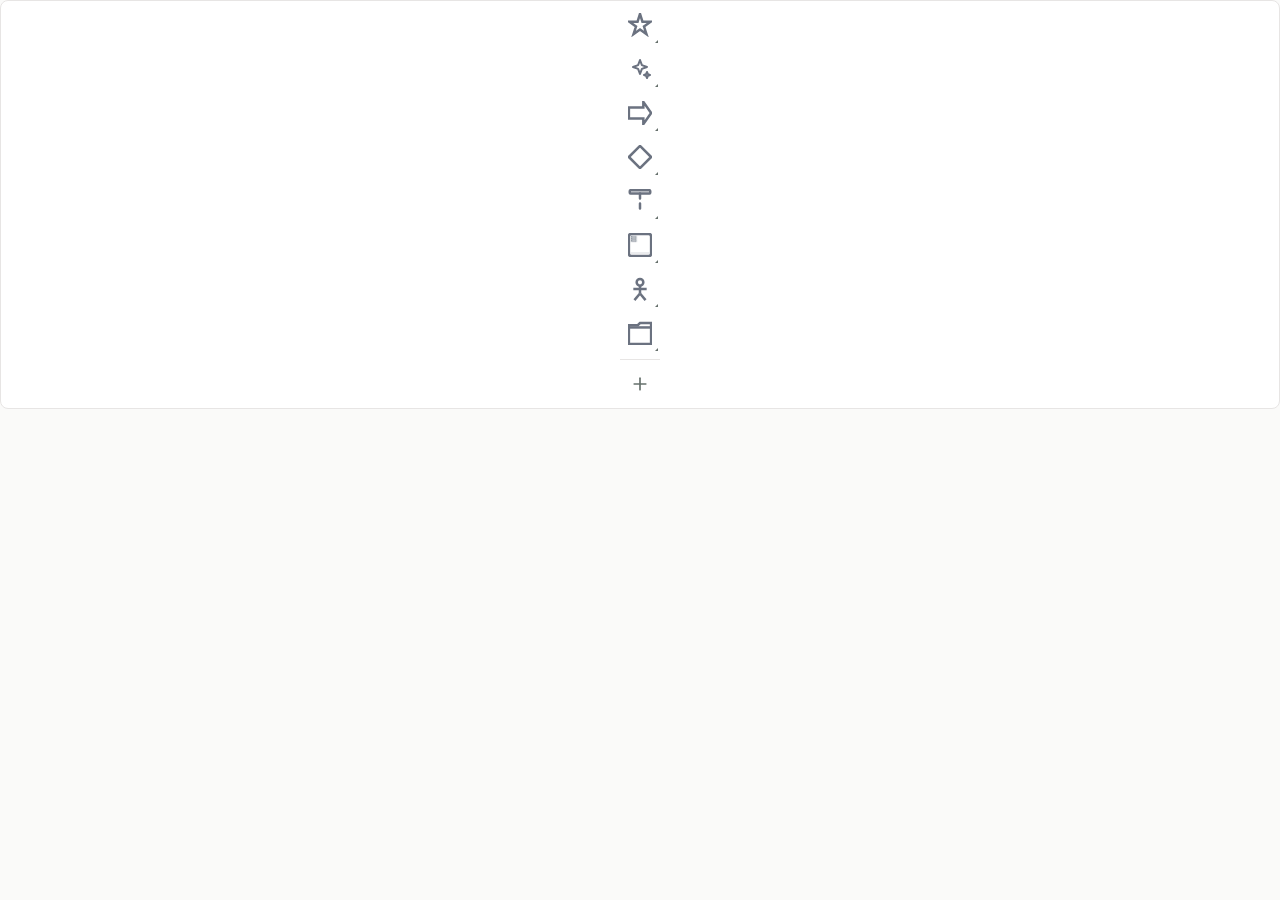
Scenario: CollapsedElementsRail accessibility › adds a semantic data flow element and promotes it to the group tool
The width and height of the screenshot is (1280, 900).
Step 1. Click the button named "Choose element groups" → click(640, 384), box [620,364,660,404]
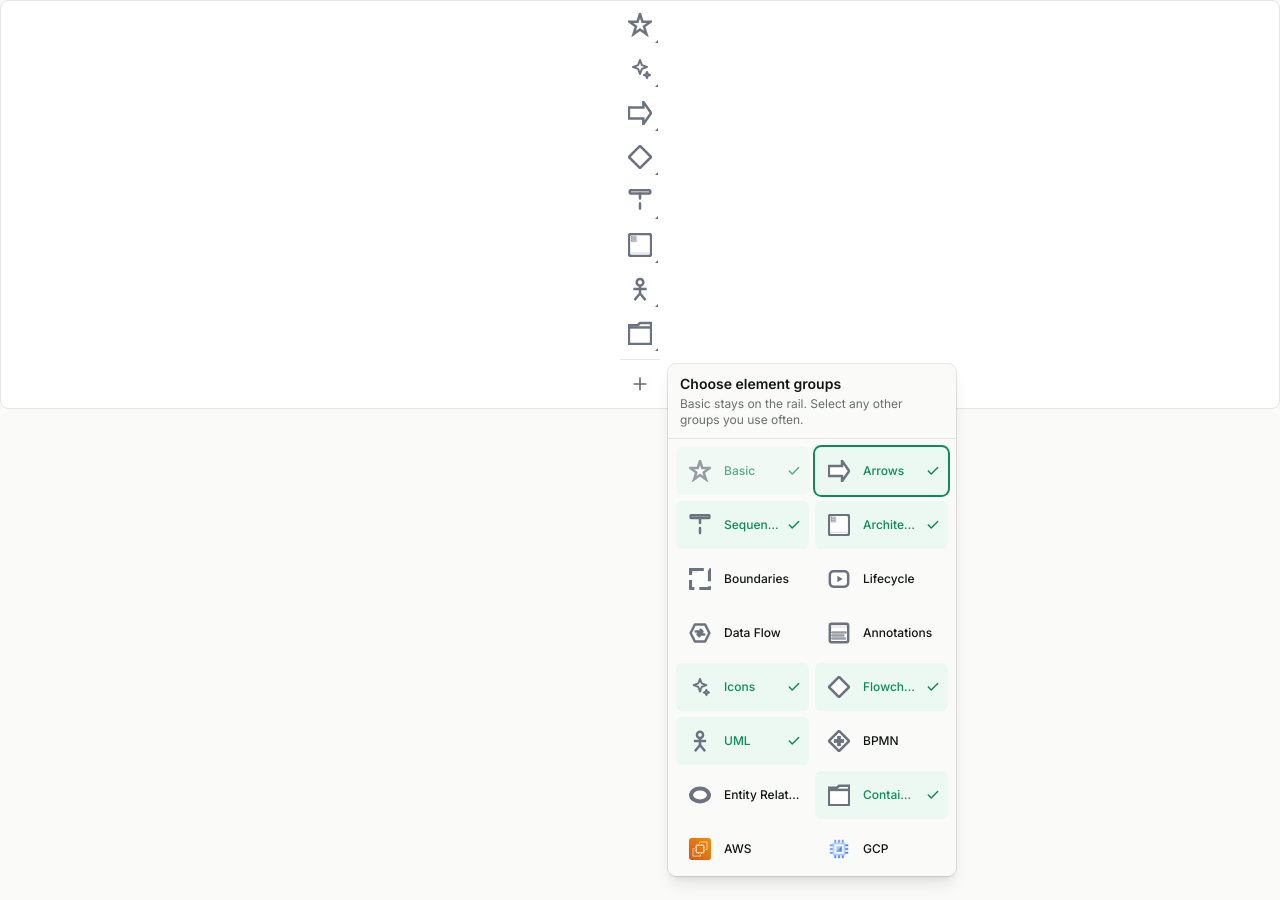
Step 2. Click the button with aria-label "Data Flow group, hidden" → click(742, 633), box [676,609,809,657]
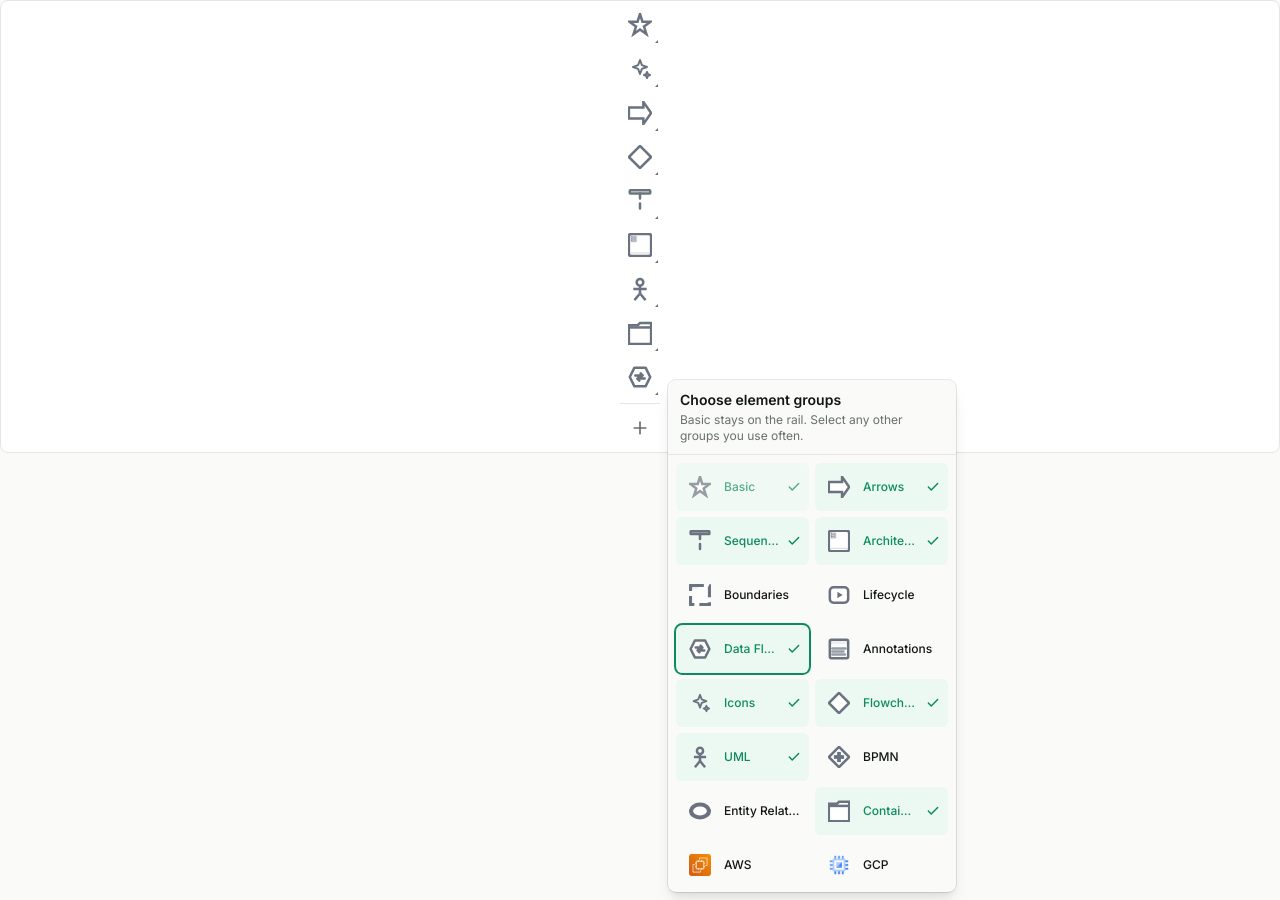
Step 3. Press Escape
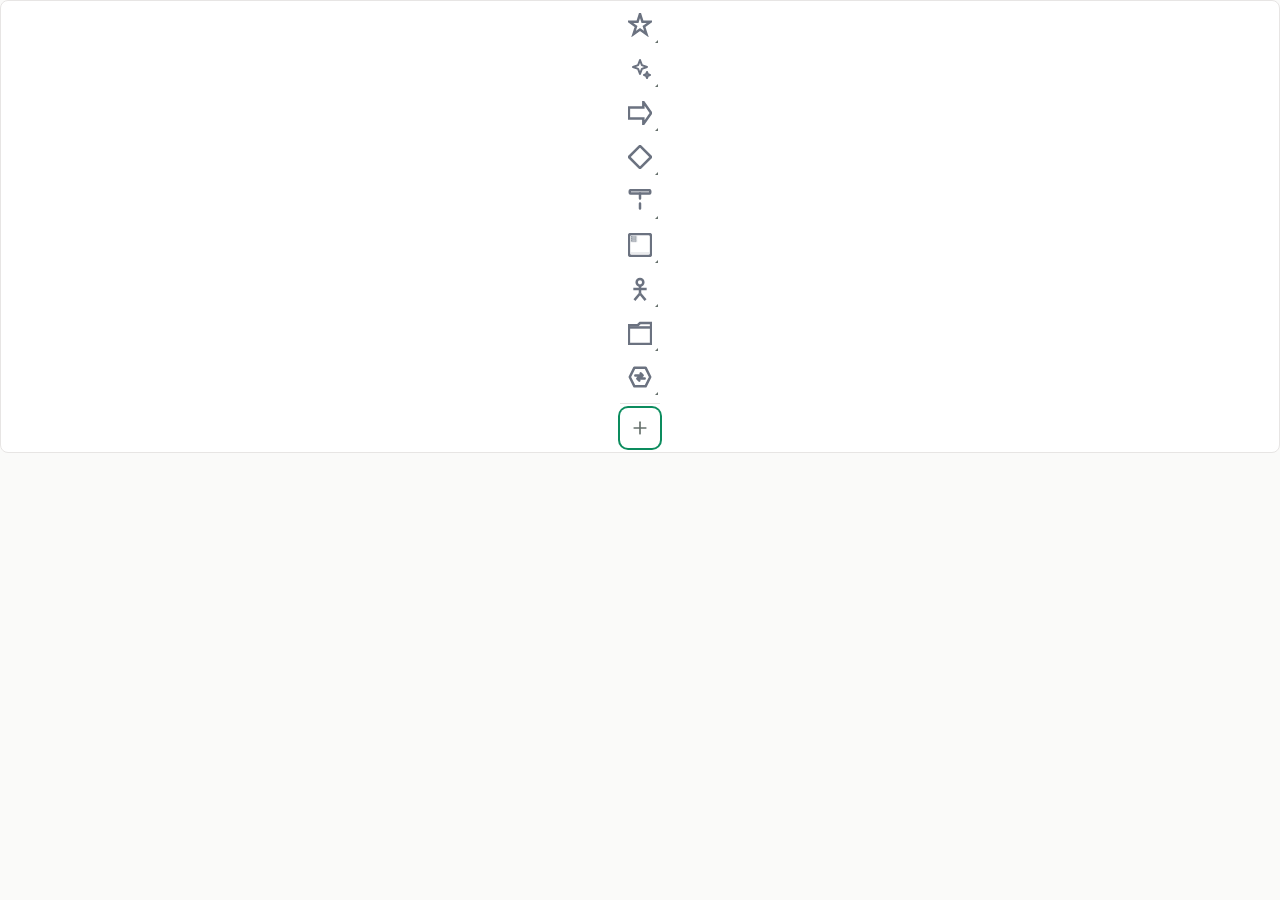
Step 4. Click the button named "Data Flow elements, Transform selected" → click(640, 377), box [620,357,660,397]
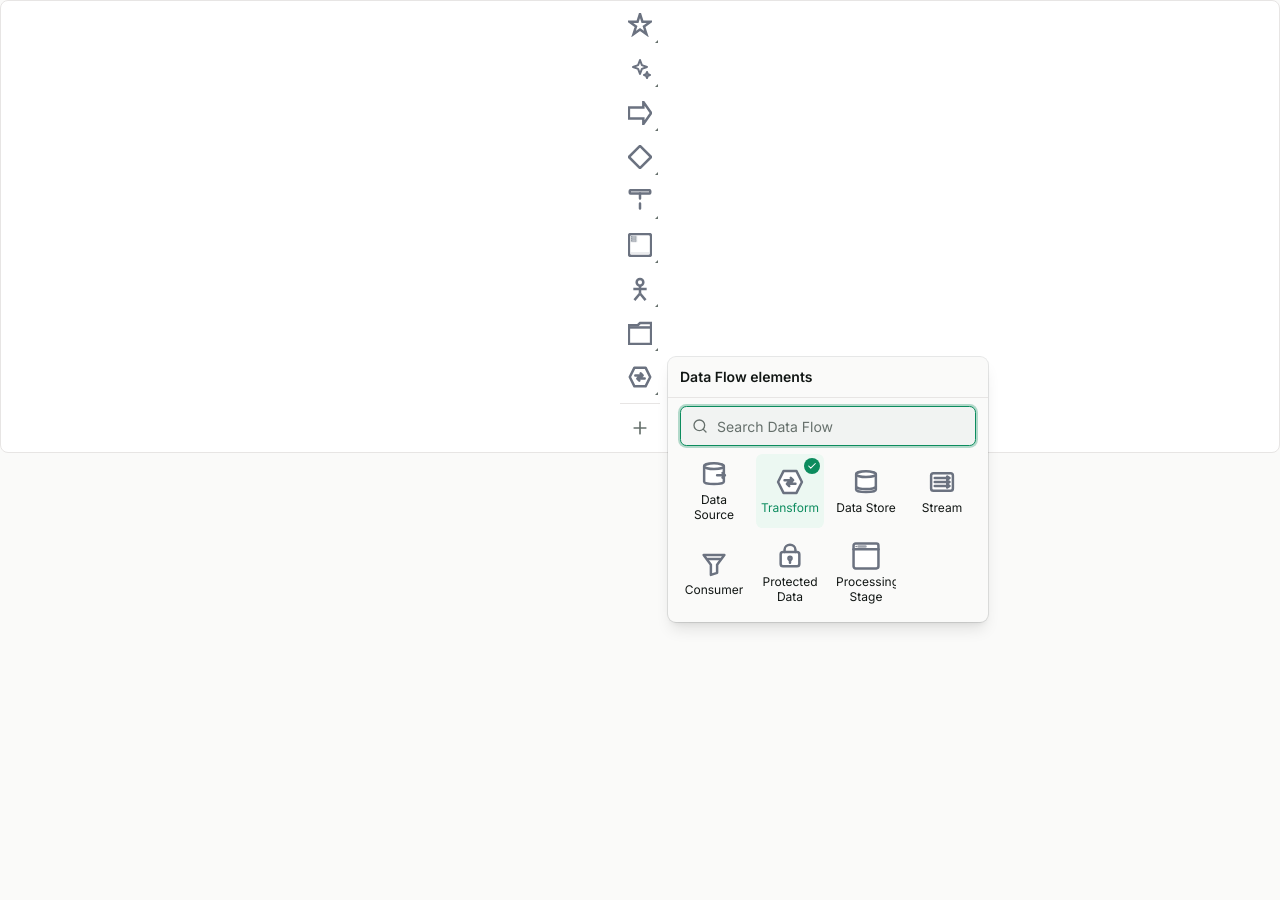
Step 5. Click the button with aria-label "Add Stream to canvas" → click(942, 491), box [908,454,976,528]
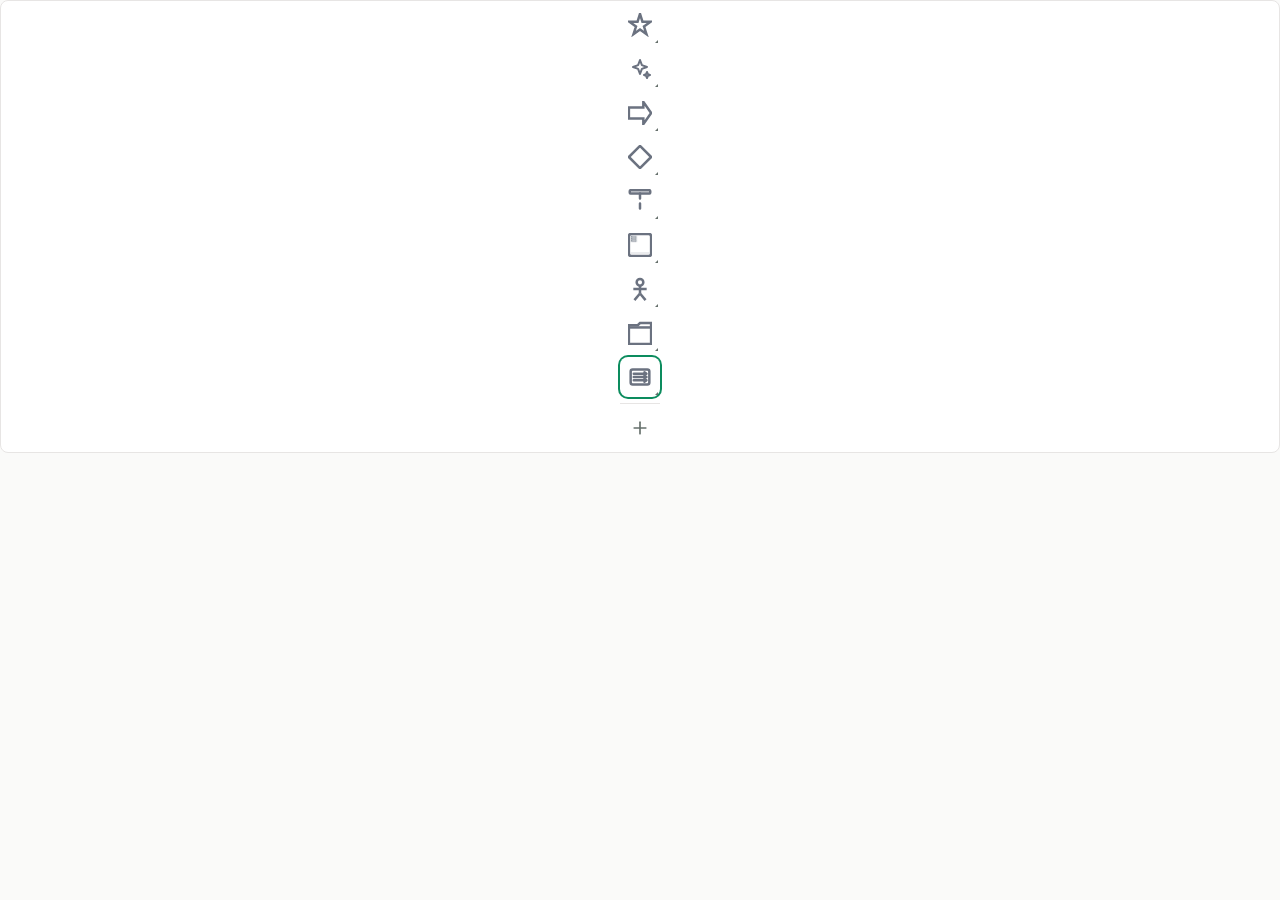
Expected: the button named "Data Flow elements, Stream selected" is shown, [620,357,660,397]
